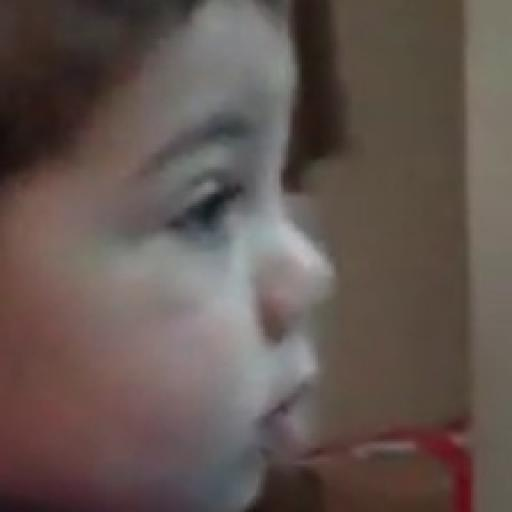Autism: (0, 22, 393, 512)
